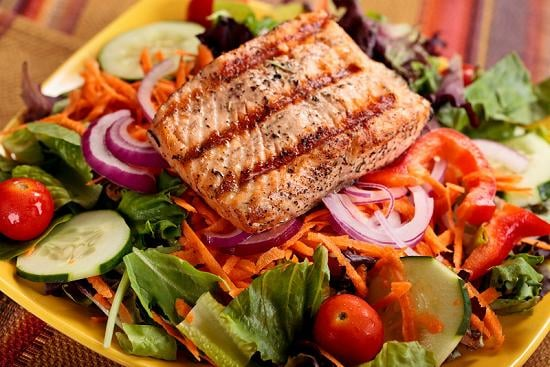soup: (148, 9, 434, 243)
